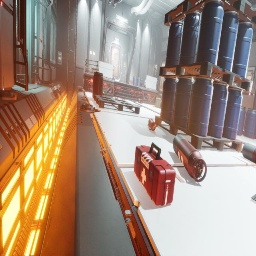0: (102, 91, 105, 95)
EmergencyPhone ,: (124, 61, 126, 67), (156, 90, 157, 91)
FireAlarm ,: (106, 58, 107, 62)
FireExtinguisher ]: (147, 118, 158, 131), (115, 97, 118, 99), (142, 85, 144, 87), (121, 99, 125, 100)
FirstAidBox ,: (134, 142, 176, 206), (138, 98, 143, 104)
NitrogenTank ,: (173, 134, 207, 182), (242, 143, 256, 164), (106, 76, 115, 80), (88, 88, 93, 93), (143, 85, 147, 88)
SafetySwitchPanel ,: (246, 67, 256, 88), (58, 51, 62, 65), (153, 89, 156, 91)
